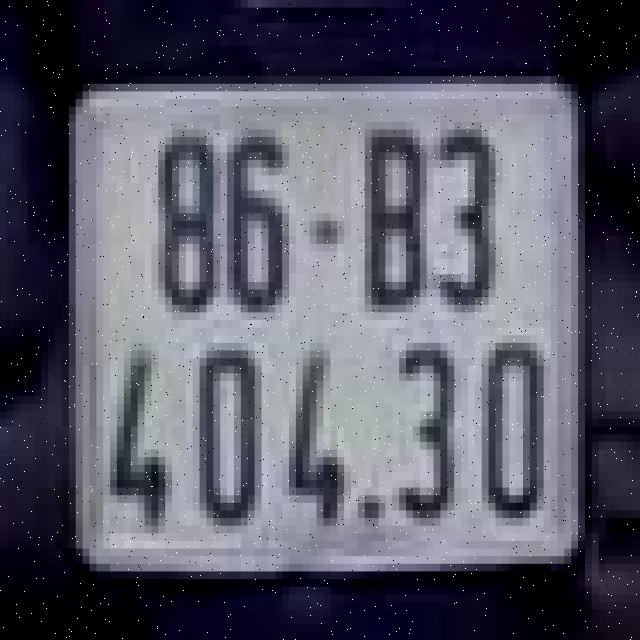0: (193, 343, 268, 533), (482, 339, 550, 522)
3: (392, 335, 461, 518), (433, 130, 502, 312)
4: (106, 346, 176, 530), (282, 343, 351, 526)
6: (227, 134, 296, 316)
8: (158, 134, 220, 316)
B: (355, 125, 430, 308)
